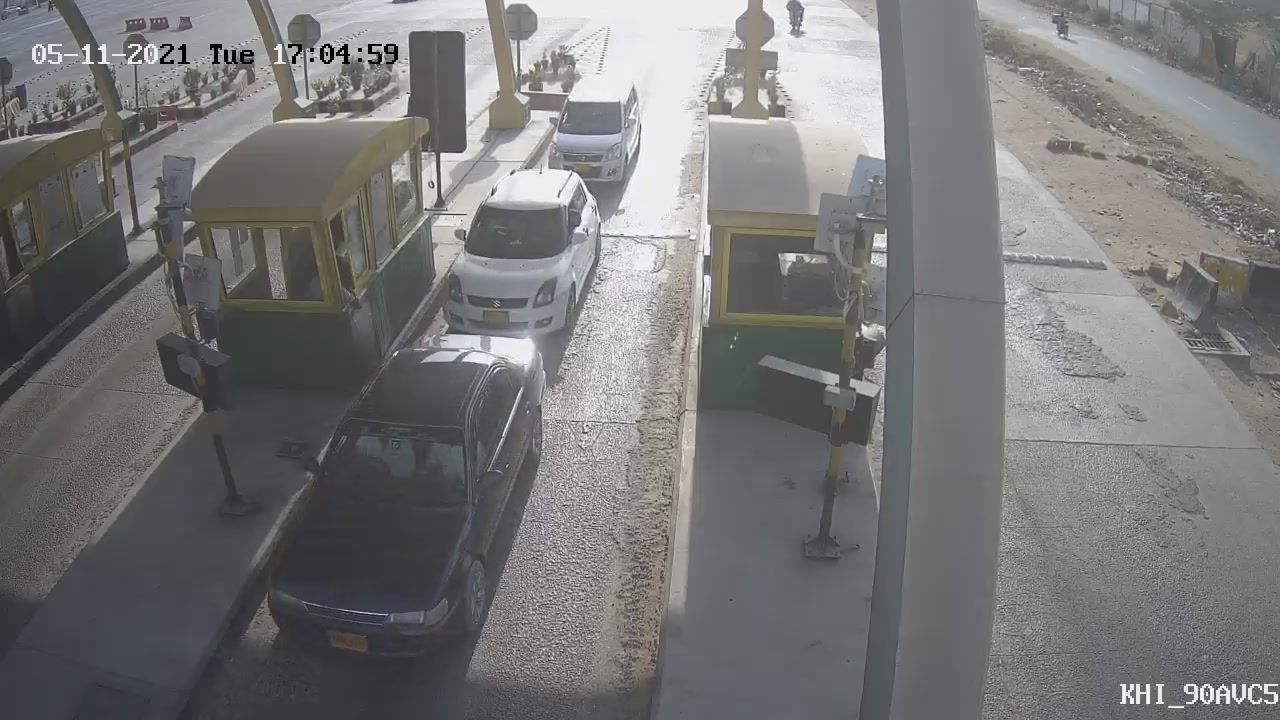F1: (420, 150, 617, 367), (538, 64, 654, 196)
